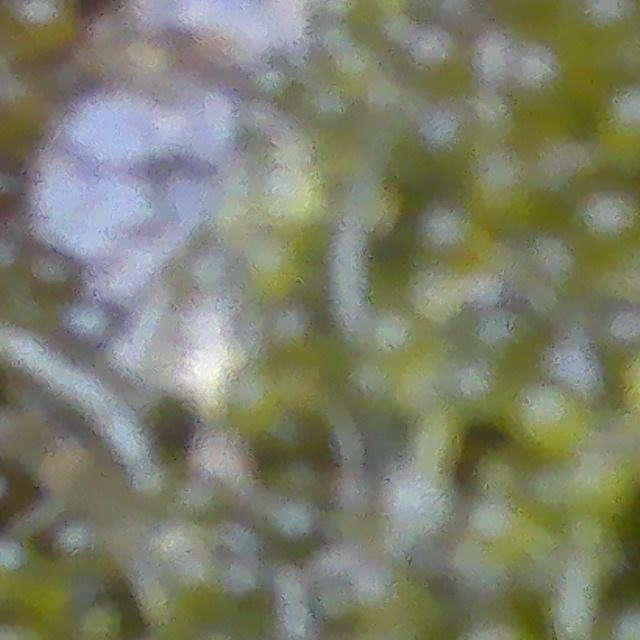SeaGrape: (564, 188, 640, 276), (467, 150, 543, 228), (15, 246, 95, 313), (567, 0, 640, 68), (413, 217, 483, 284)
